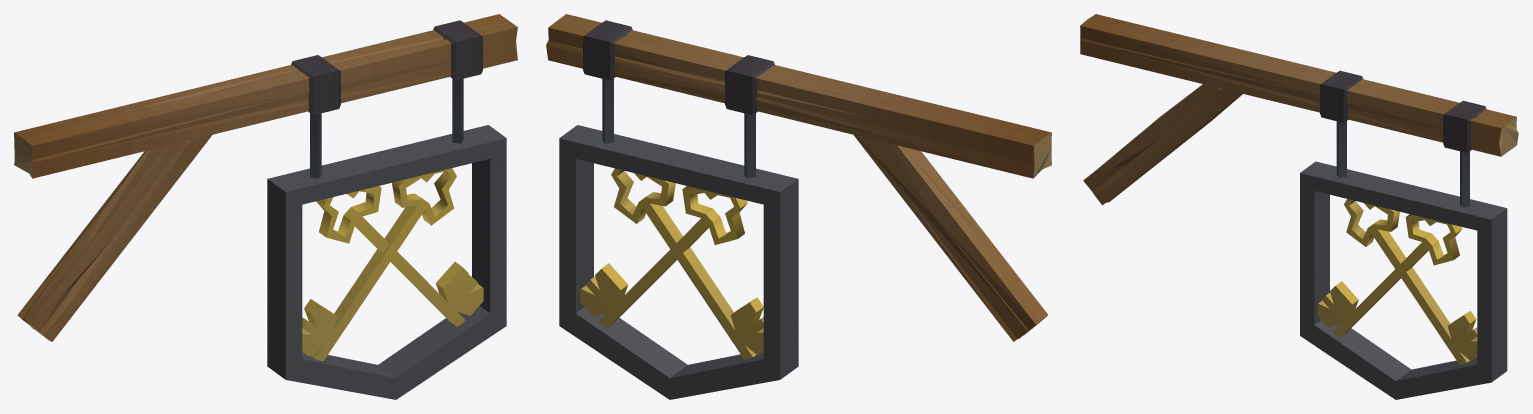
Rendered from SignBoard_6.fbx.
The picture shows the model from 3 angles, left to right: view 1: azimuth 30°, elevation 25°; view 2: azimuth 150°, elevation 25°; view 3: azimuth 330°, elevation 25°; orthographic projection. The views are drawn at different scales.
Parts seen in each view (by area): view 1: polySurface10655; view 2: polySurface10655; view 3: polySurface10655.
Part boxes in pixels (x1,y1,x2,y2): polySurface10655: (14, 14, 517, 399); polySurface10655: (546, 14, 1051, 399); polySurface10655: (1080, 14, 1518, 399).
Size of the model in its own units: 309 by 209 by 23.29.
